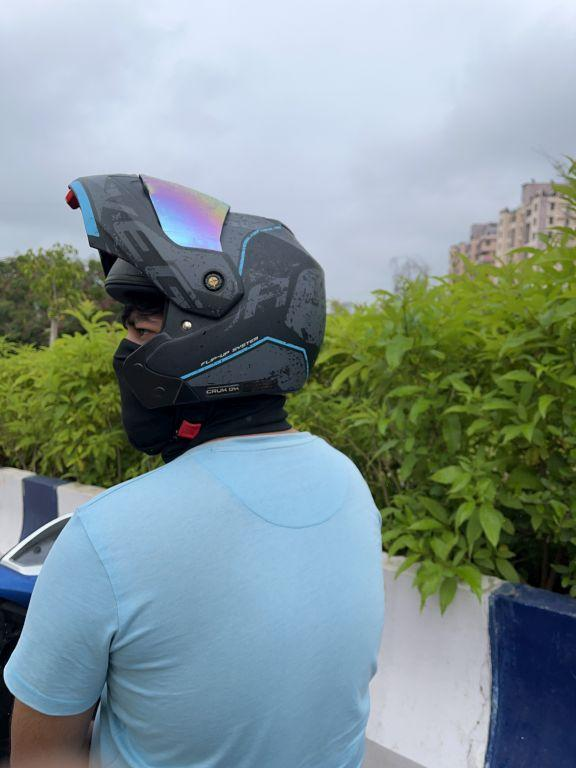helmet: (62, 165, 334, 443)
